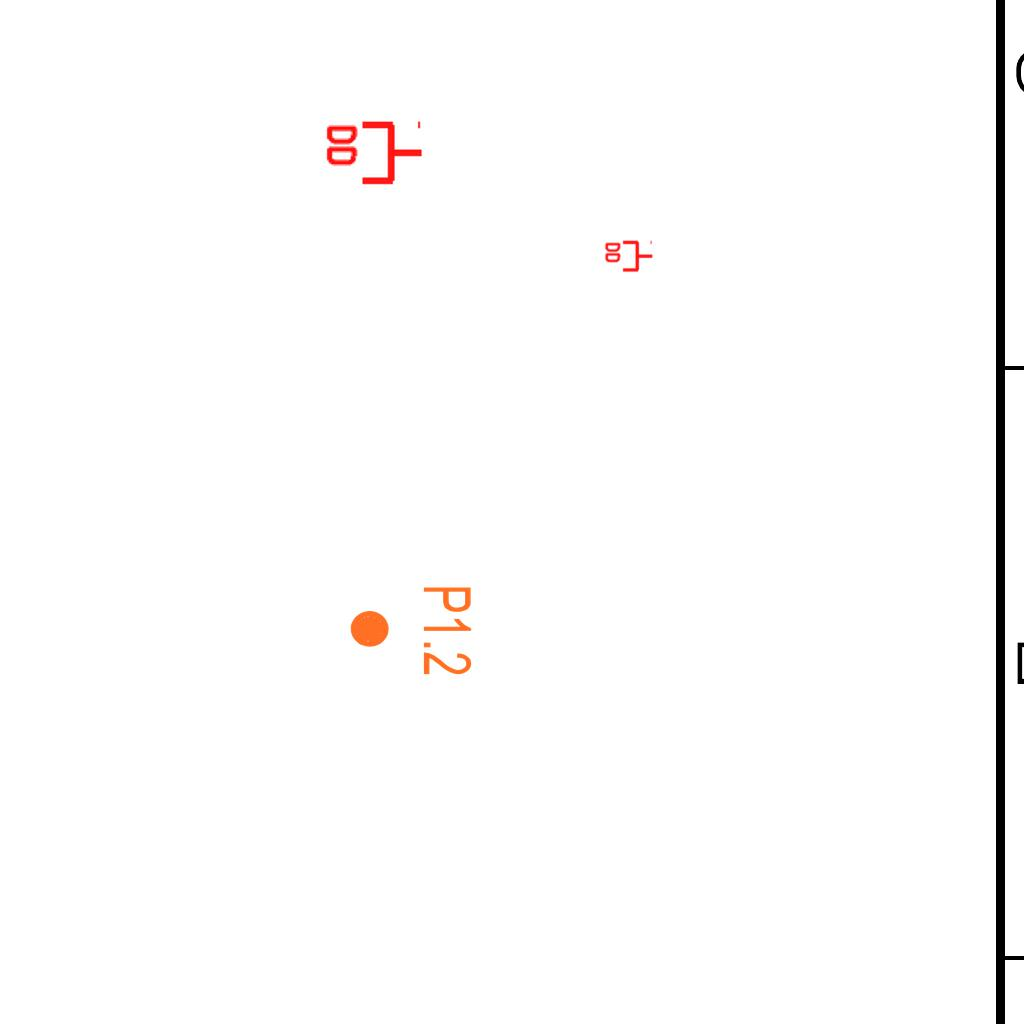Datenanschluss_zweifach: (322, 120, 425, 189), (603, 240, 654, 274)
Downlight_LED_Einbauleuchten_Flur: (347, 584, 475, 677)
